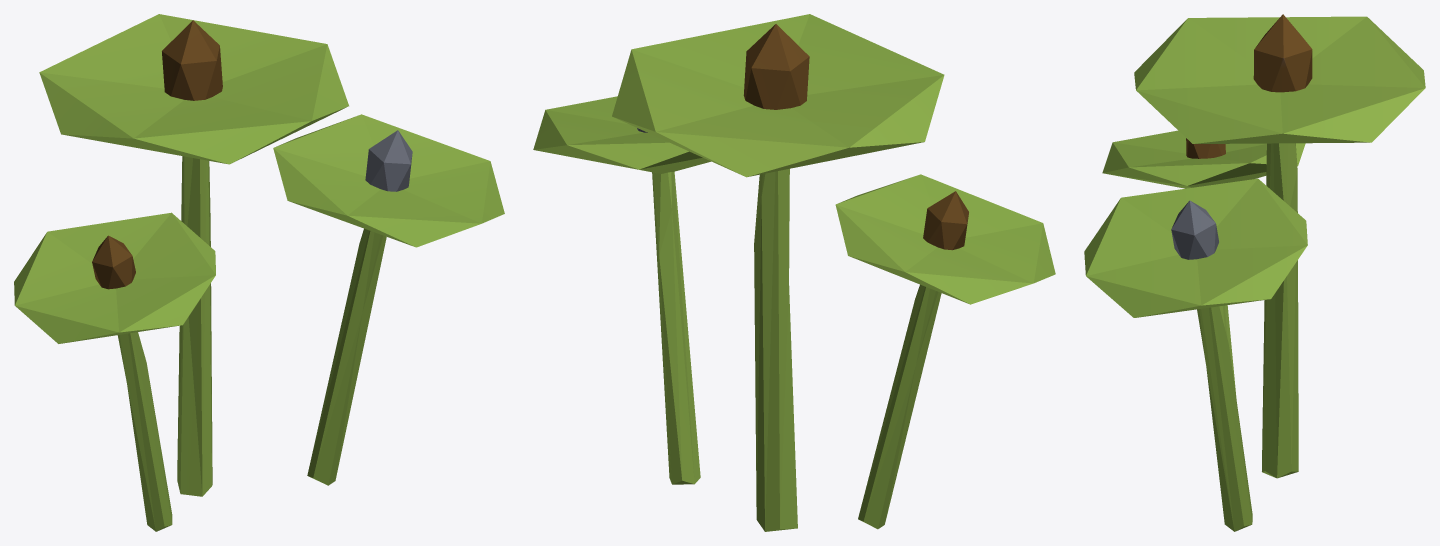
Rendered from Flower_01.fbx.
3 renders of one model, left to right at view 1: azimuth 30°, elevation 25°; view 2: azimuth 150°, elevation 25°; view 3: azimuth 270°, elevation 25°, orthographic. The views are drawn at different scales.
Parts seen in each view (by area): view 1: Flower_01; view 2: Flower_01; view 3: Flower_01.
Part boxes in pixels (bbox=[...]): Flower_01: bbox=[14, 14, 504, 531]; Flower_01: bbox=[533, 14, 1055, 531]; Flower_01: bbox=[1084, 14, 1425, 531].
Size of the model in its own units: 0.4478 by 0.4346 by 0.2911.
